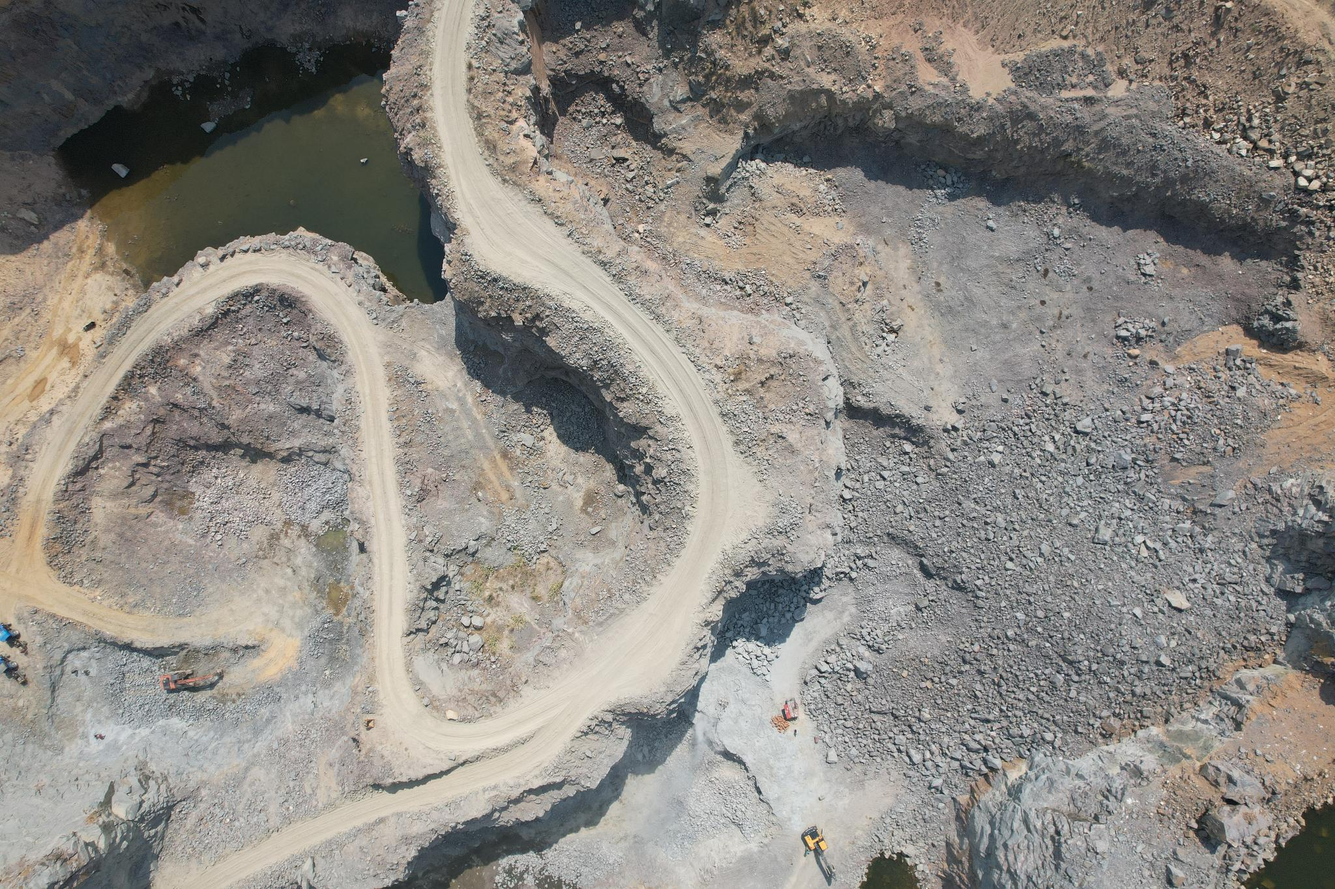benches: (0, 0, 759, 887)
excavator: (805, 814, 842, 887)
